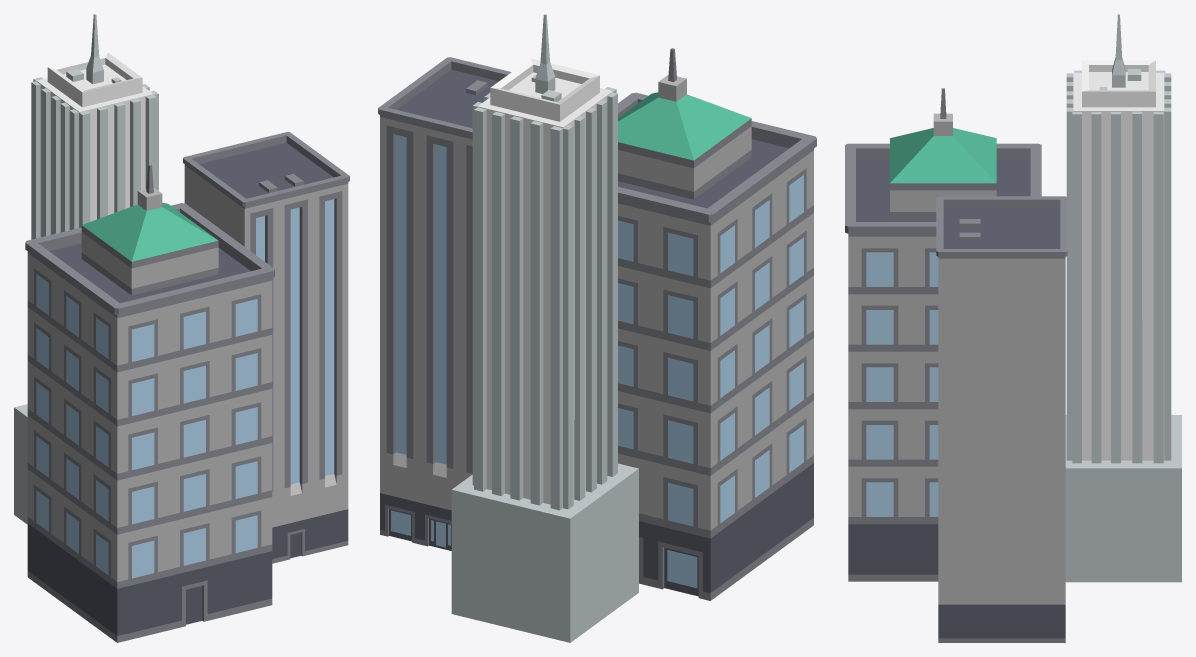
File: building_city_neutral.glb
3 views of the same model, side by side, from view 1: azimuth 30°, elevation 25°; view 2: azimuth 150°, elevation 25°; view 3: azimuth 270°, elevation 25° (orthographic). The views are drawn at different scales.
Parts seen in each view (by area): view 1: skyscraperE, skyscraperF, Node; view 2: skyscraperE, Node, skyscraperF; view 3: skyscraperF, Node, skyscraperE.
Part boxes in pixels (left/top/right/bottom): skyscraperE: left=25, top=164, right=274, bottom=642; skyscraperF: left=183, top=132, right=349, bottom=563; Node: left=14, top=14, right=158, bottom=524; skyscraperE: left=618, top=48, right=816, bottom=600; Node: left=451, top=14, right=638, bottom=642; skyscraperF: left=378, top=57, right=511, bottom=550; skyscraperF: left=936, top=196, right=1067, bottom=642; Node: left=1065, top=14, right=1181, bottom=582; skyscraperE: left=845, top=88, right=1041, bottom=581.
Bounding box in the file's own units: 0.8779 × 1.54 × 0.8684.
